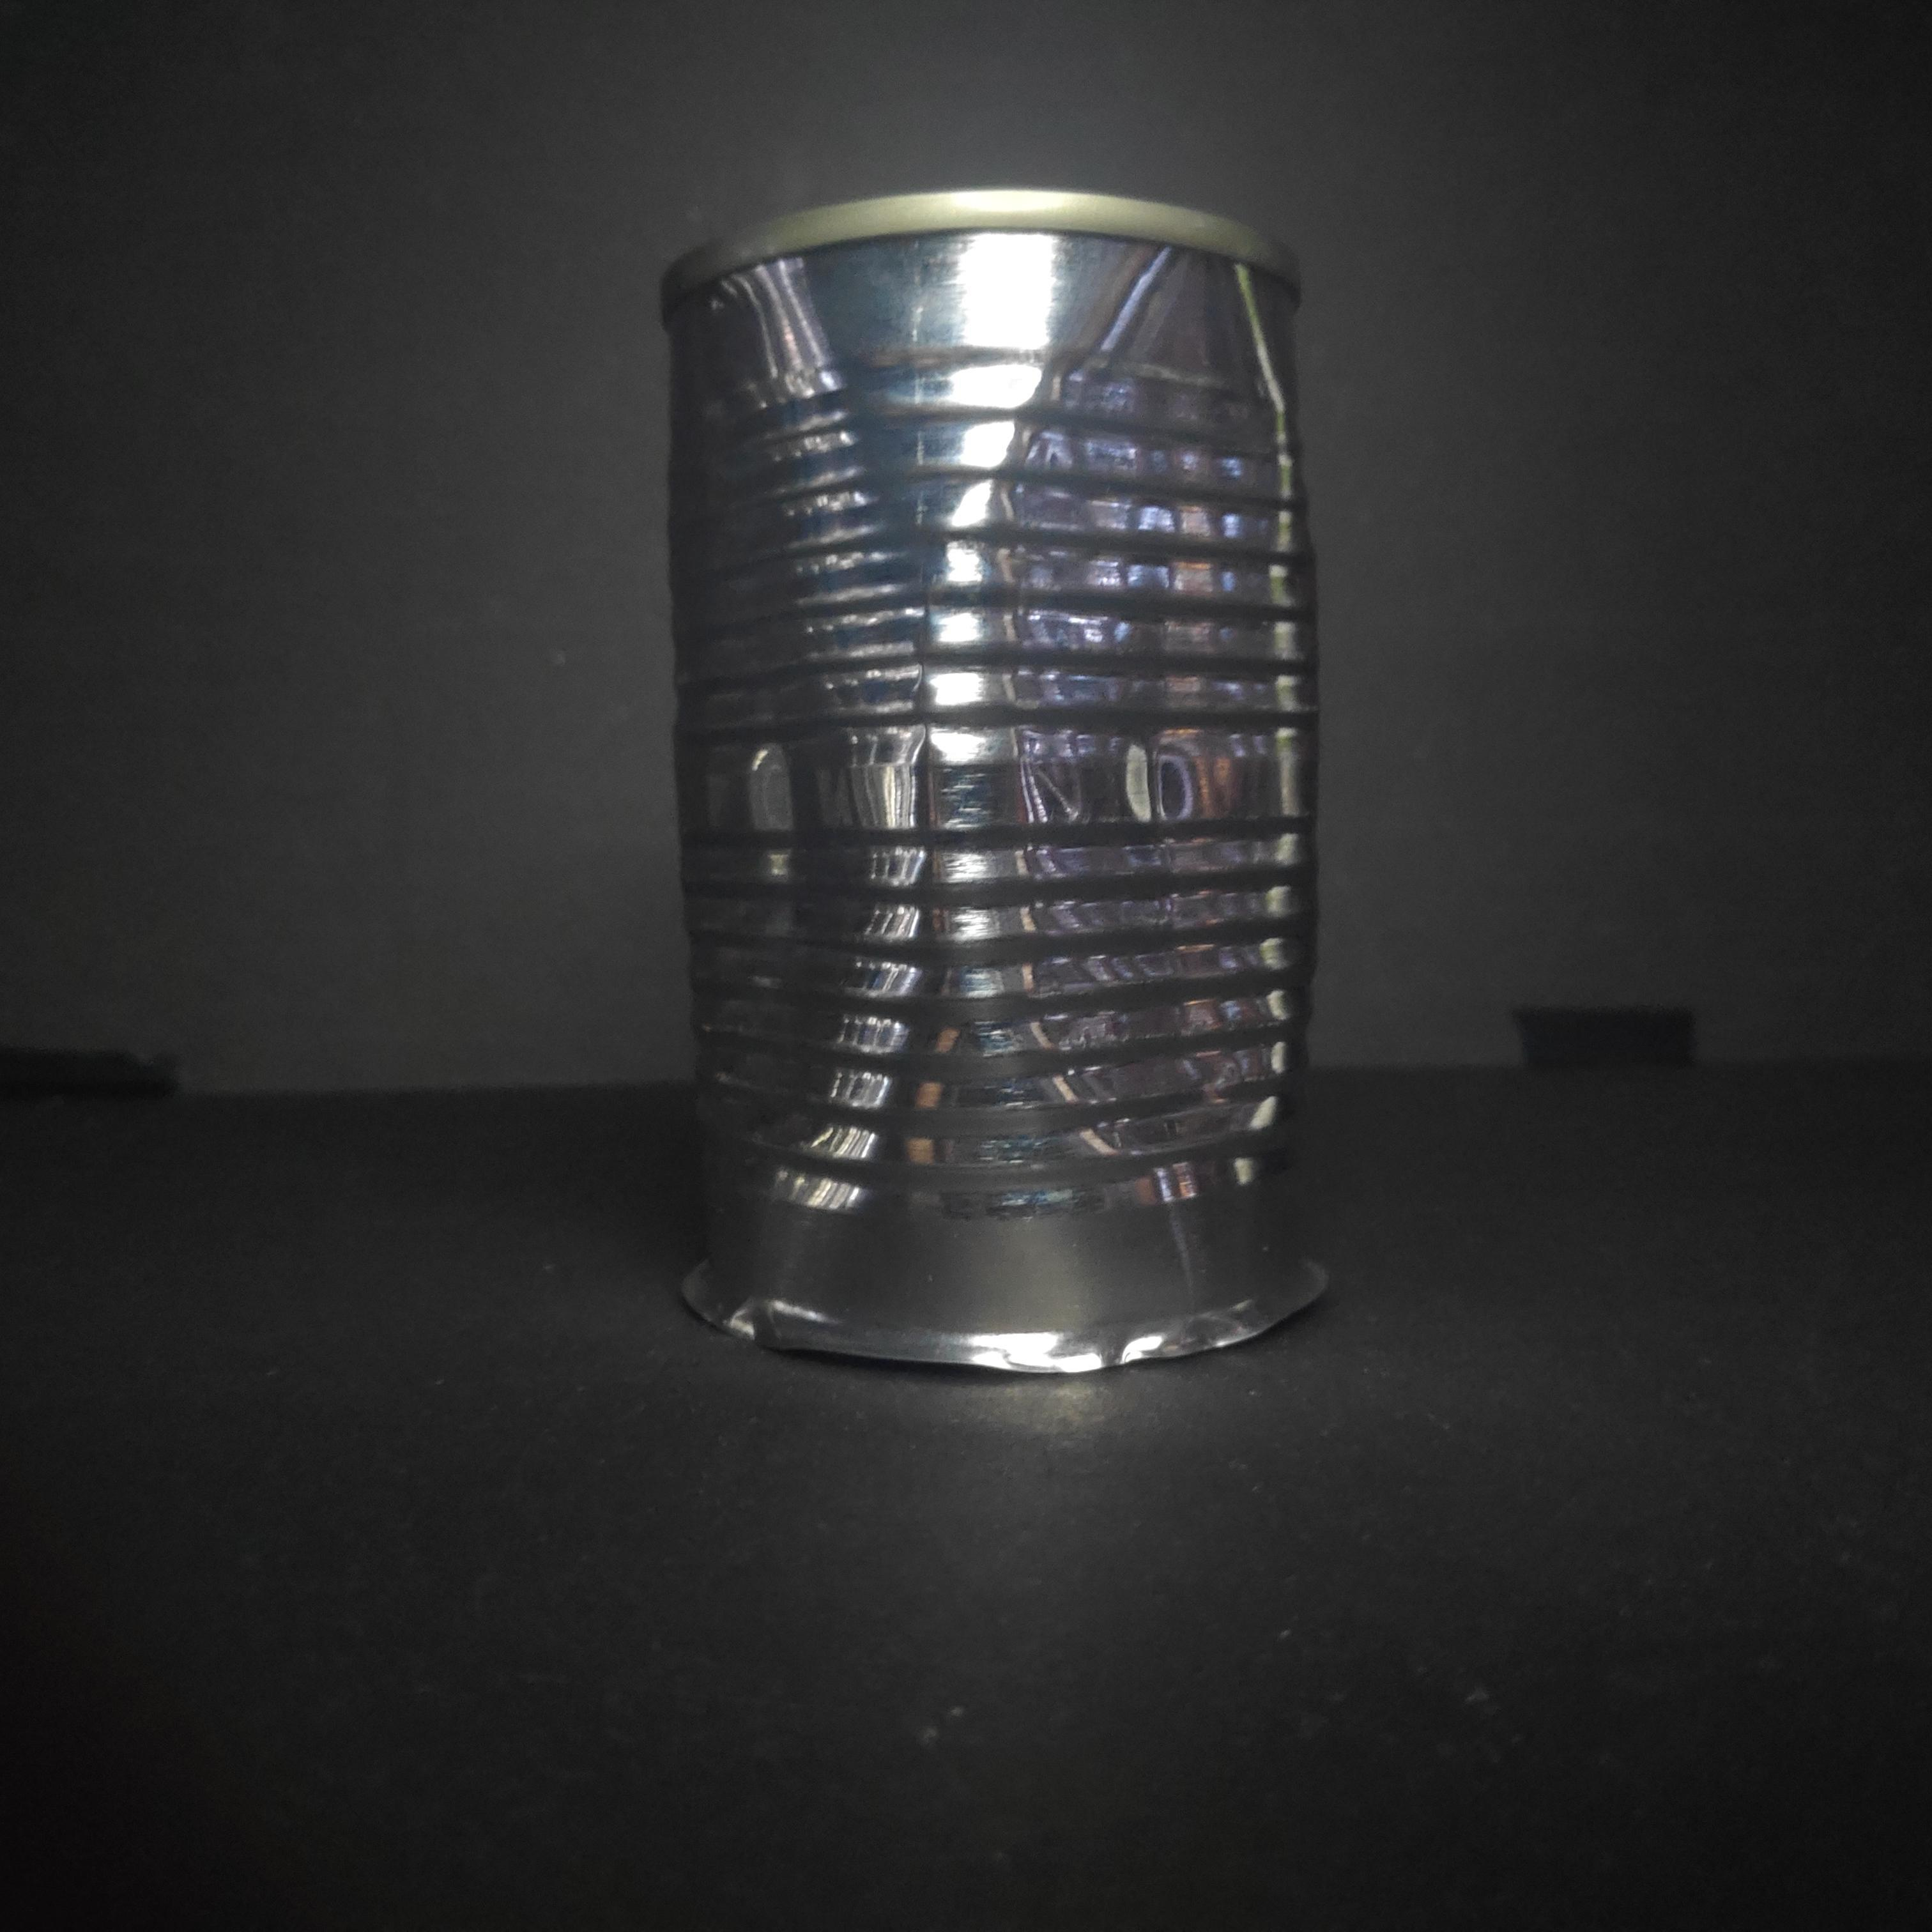Dented: (630, 154, 1376, 1389)
